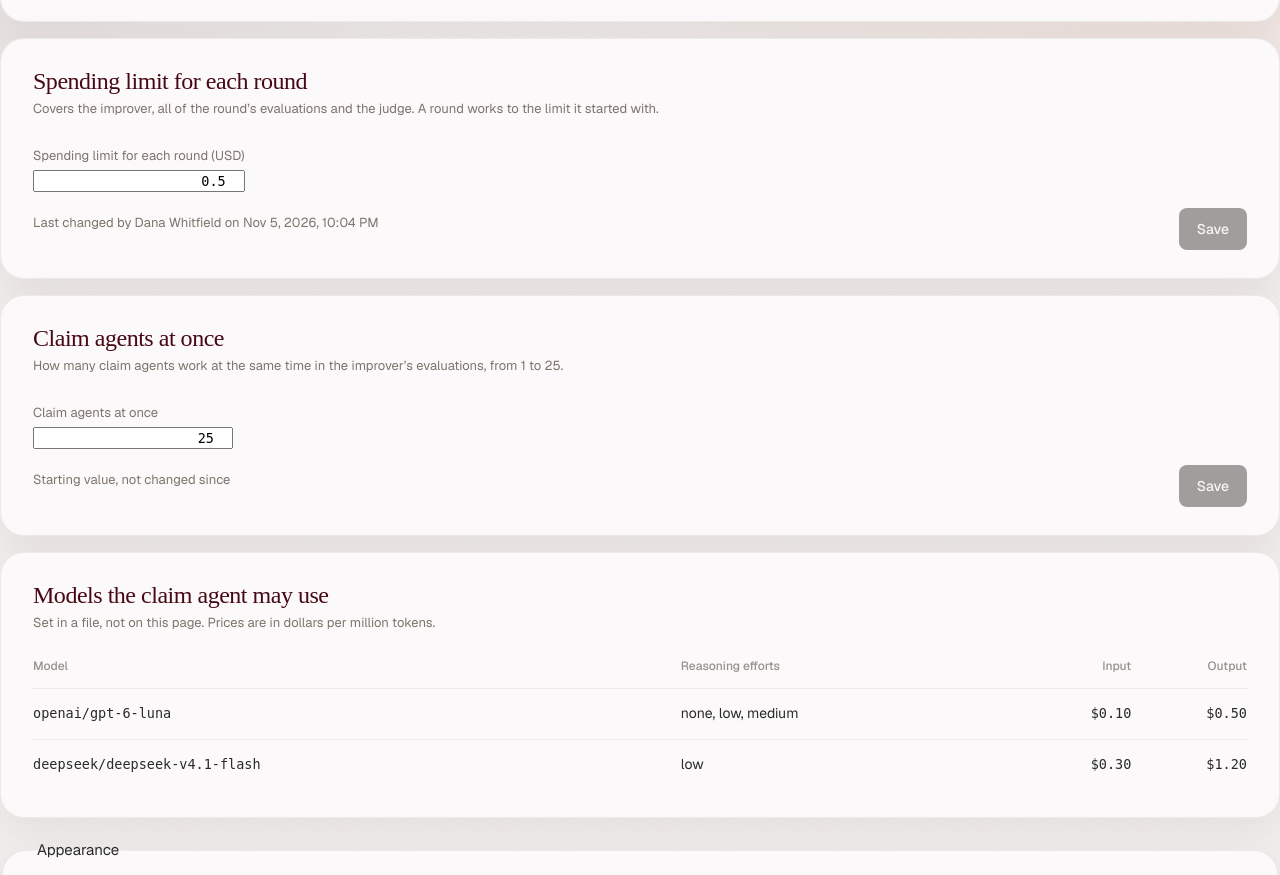
Test case: Settings › says what the backend refused, and keeps the page
(page scrolled)
Replace the text in the number field labelled "Claim agents at once" with "12" at coordinates (133, 438), box [33, 427, 233, 449]
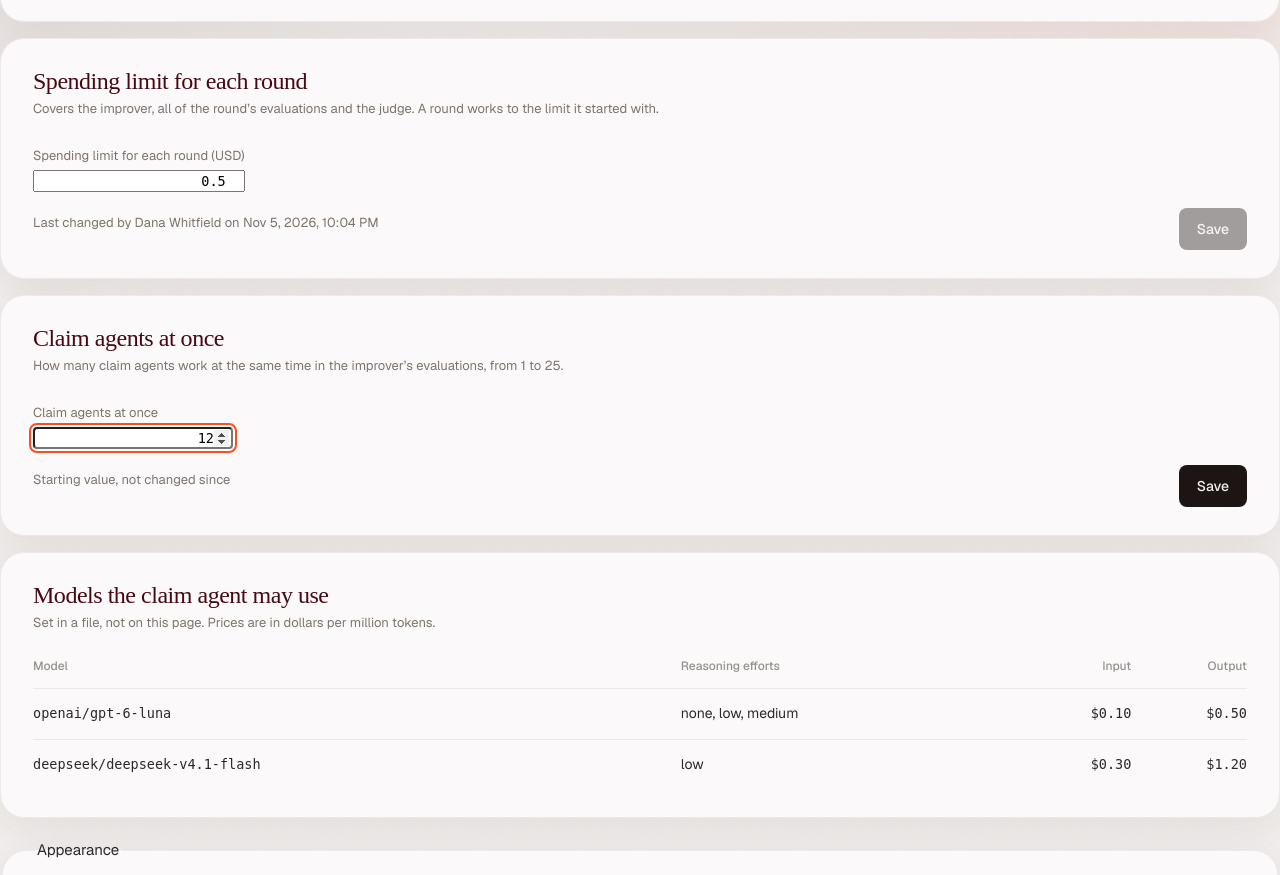
Click the button with aria-label "Save claim agents at once" at coordinates (1213, 486), box [1179, 465, 1247, 507]
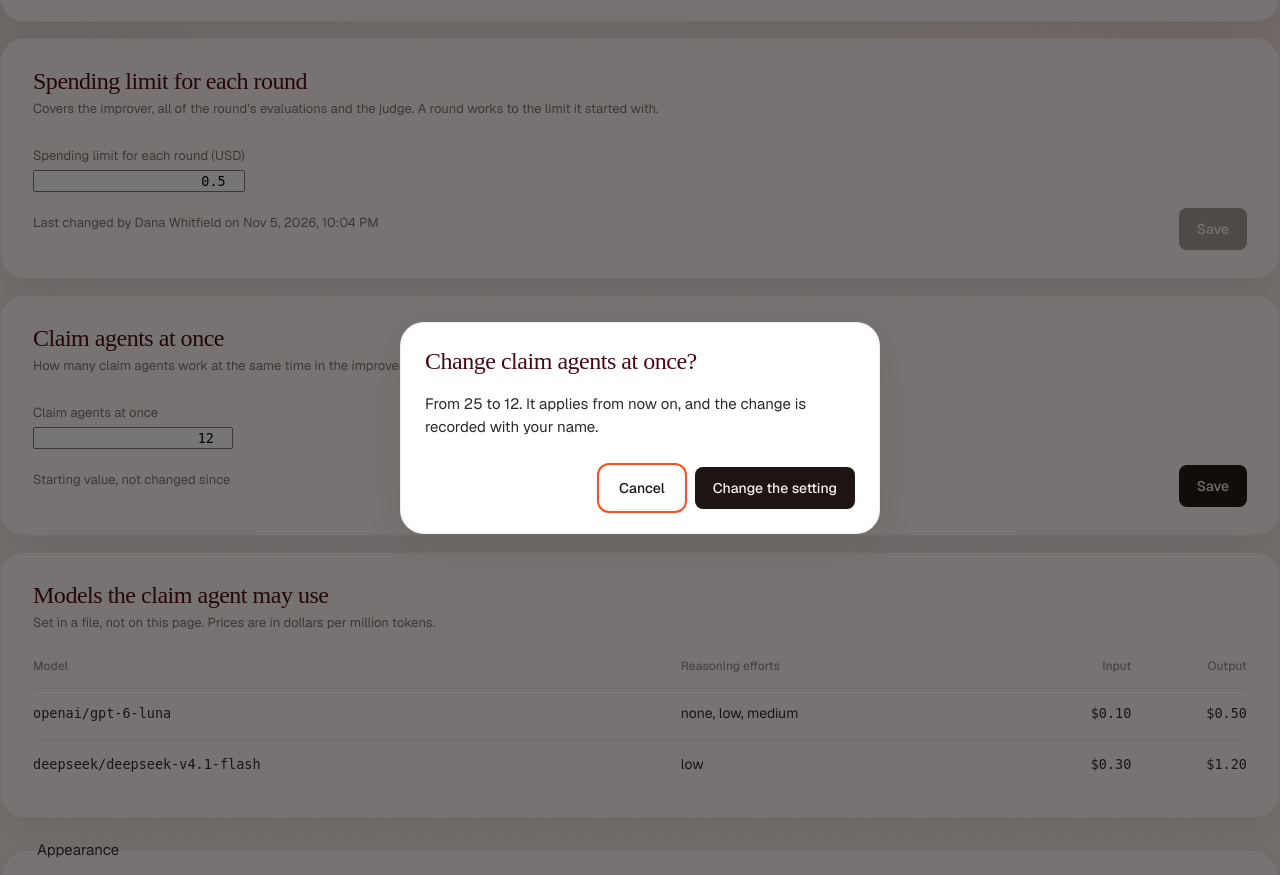
Click the button "Change the setting" at coordinates (775, 488), box [695, 467, 855, 509]
(page scrolled)
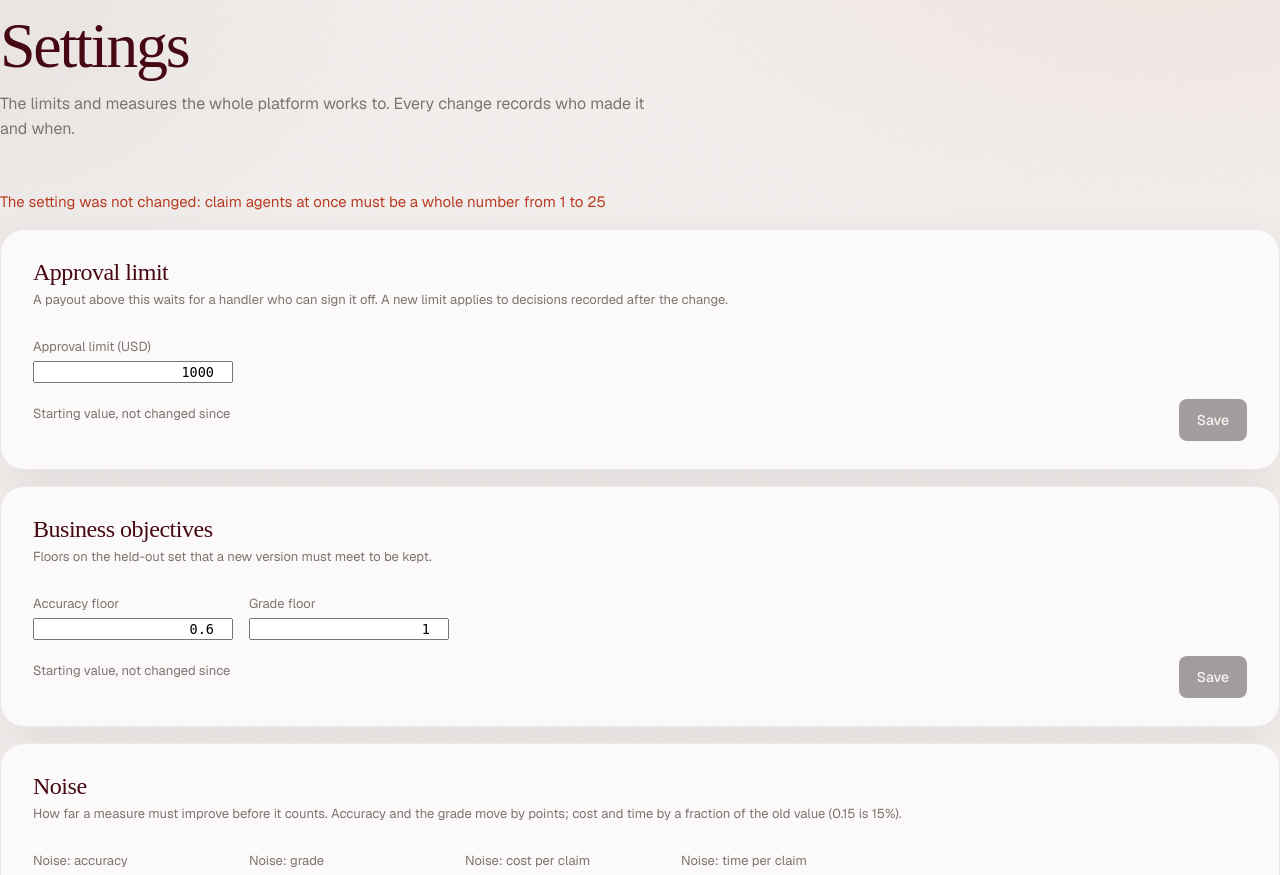
expect the text "must be a whole number from 1 to 25" is shown: met, box [0, 192, 606, 211]
